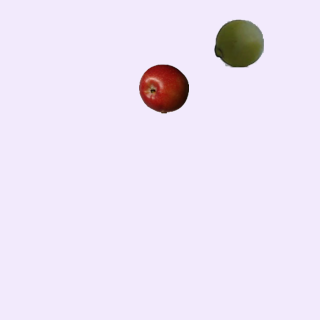Apple Braeburn: (138, 63, 188, 113)
Grape White 4: (213, 17, 263, 67)
